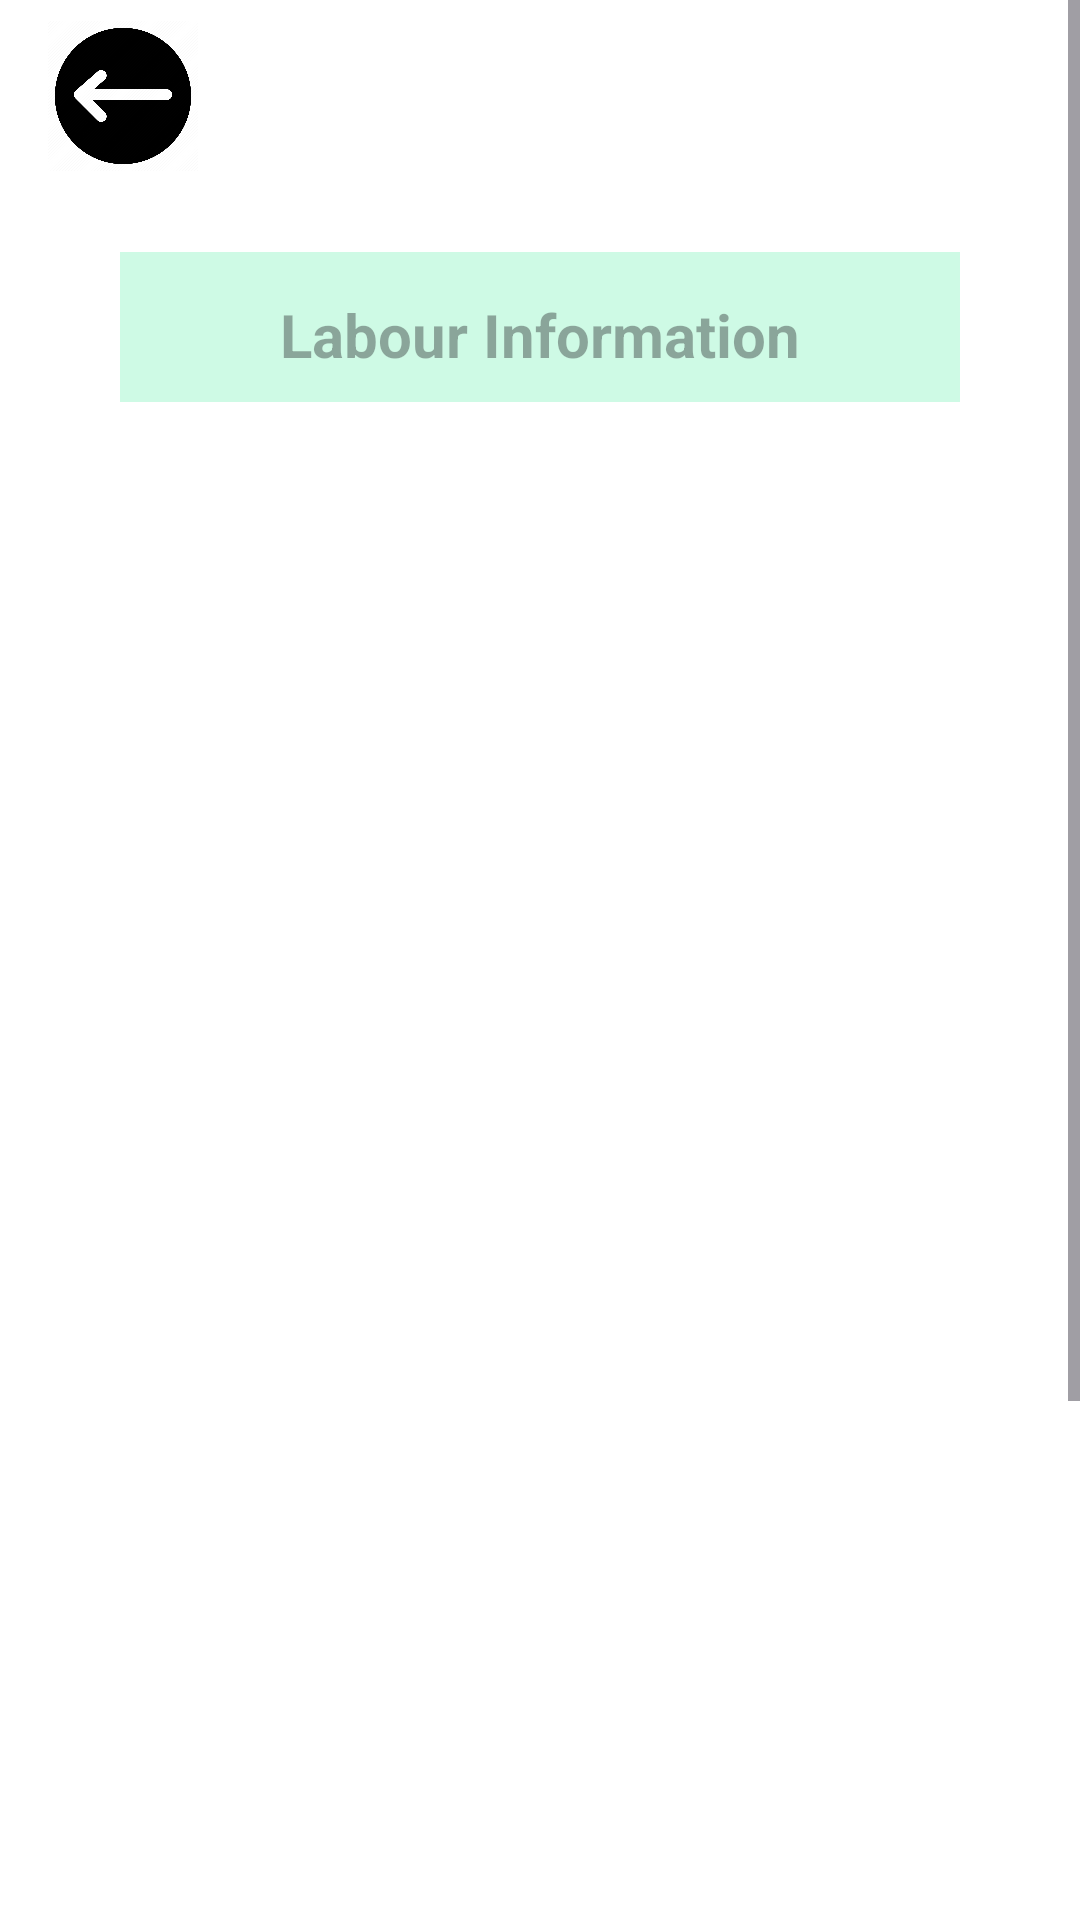

Icons on this 1080px x 1920px Android screen, each with its box as (x1=x1, y1=y1, x2=x2, y2=y2):
back: (x1=55, y1=28, x2=191, y2=164)
